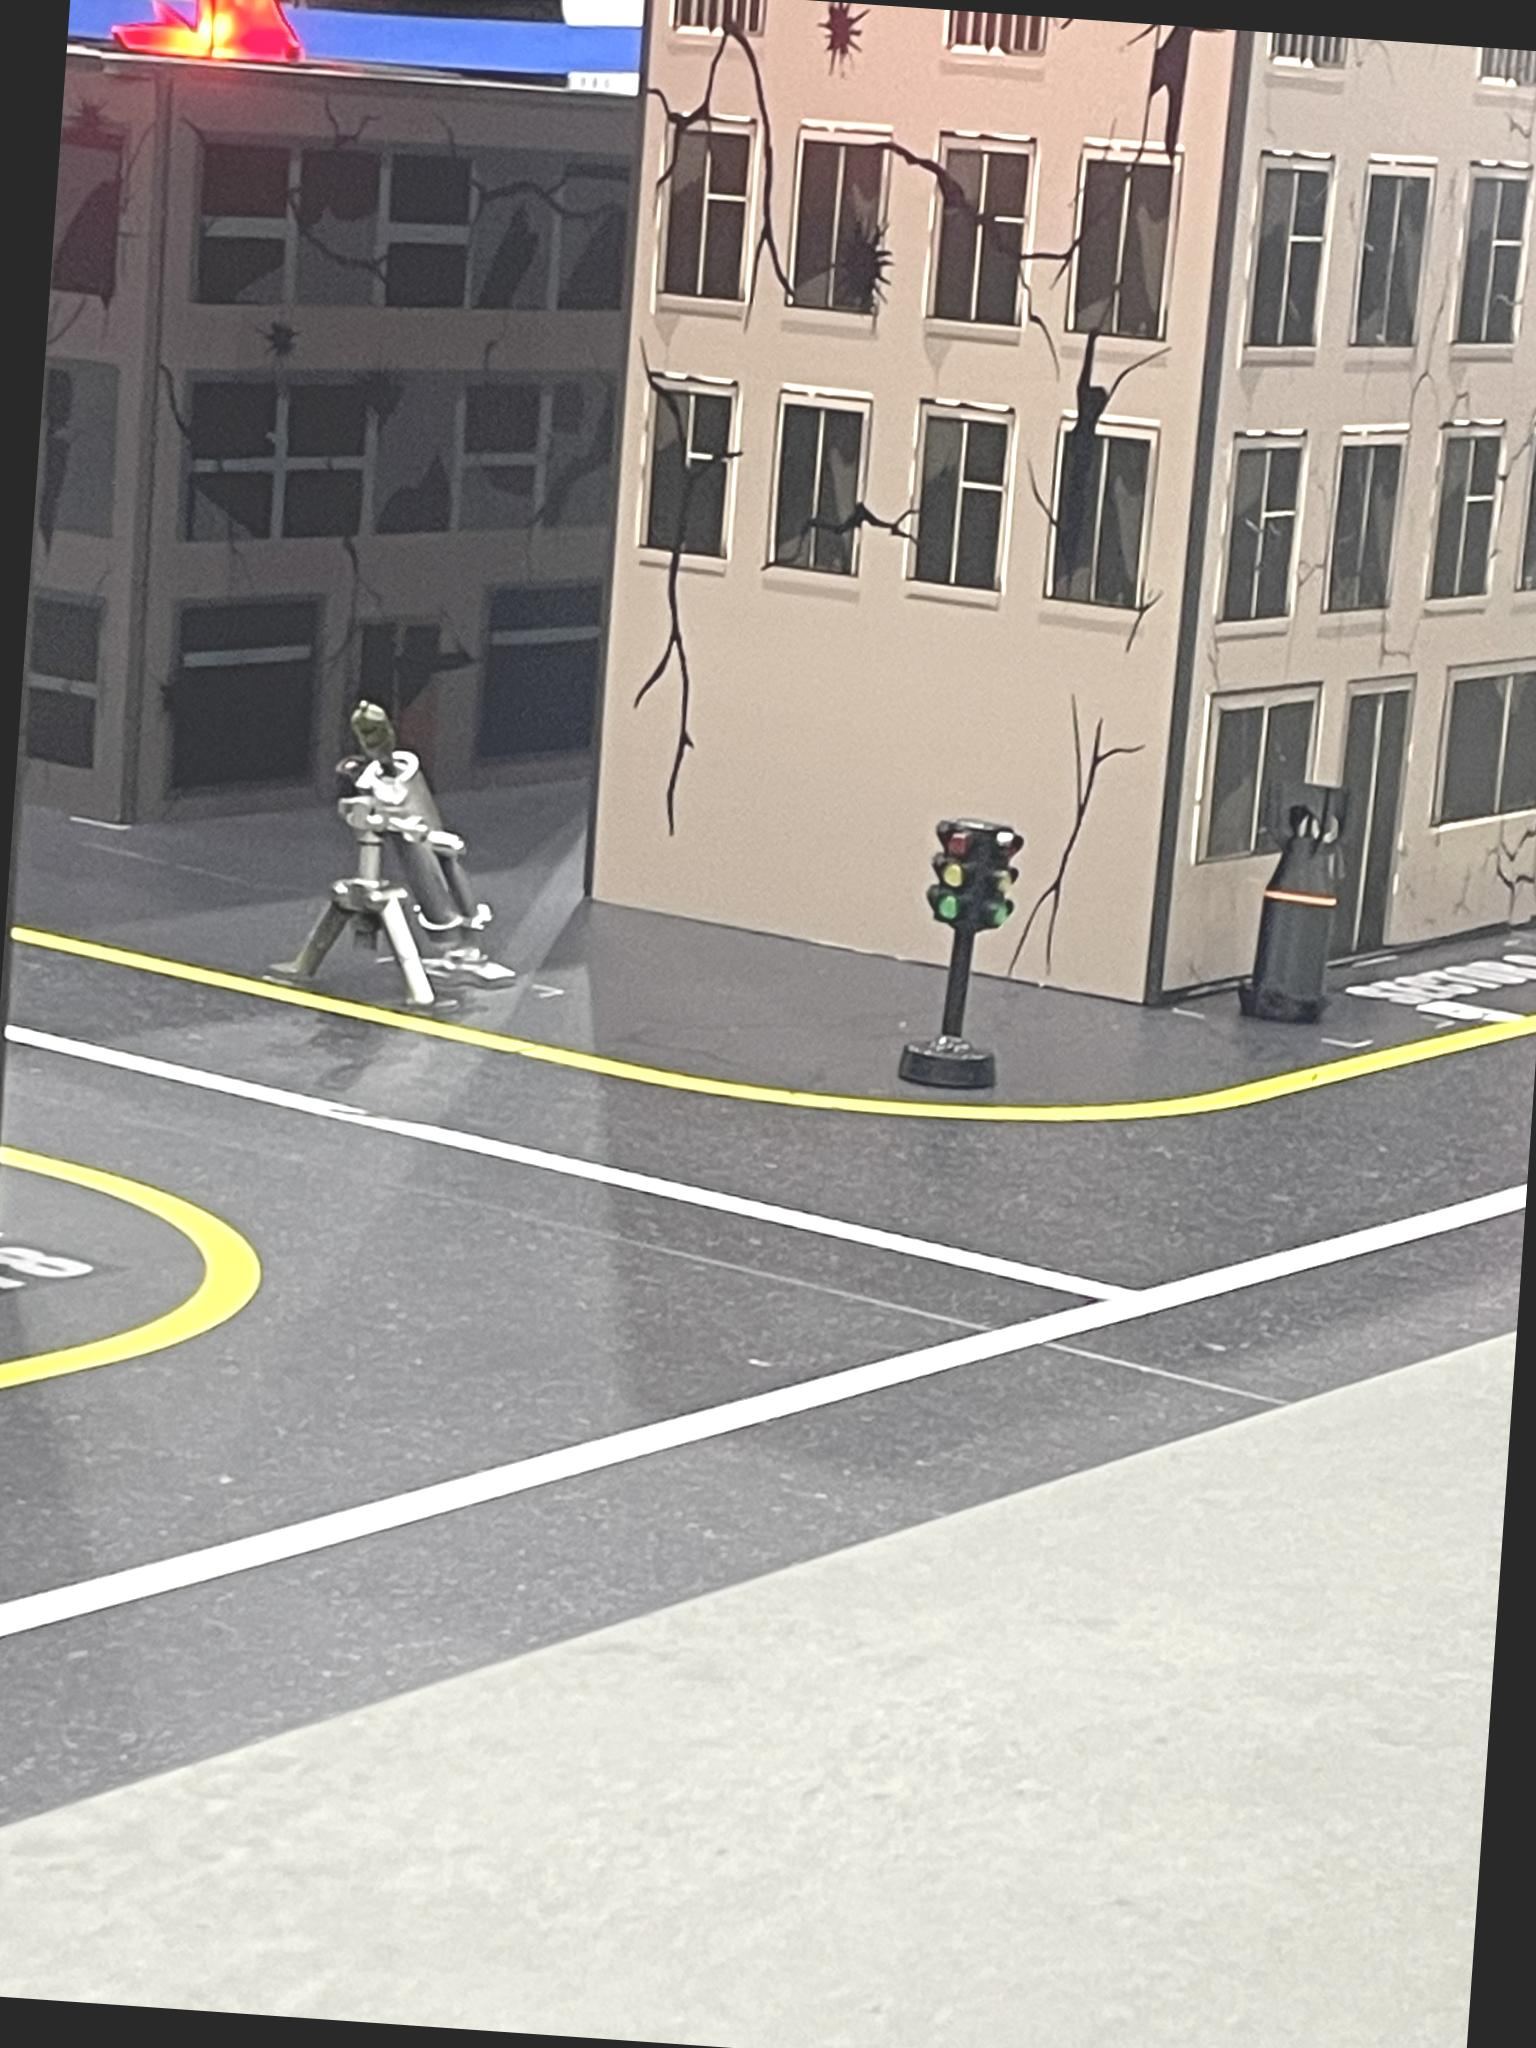Missile: (1249, 785, 1354, 1022)
Mortar: (273, 700, 539, 1019)
